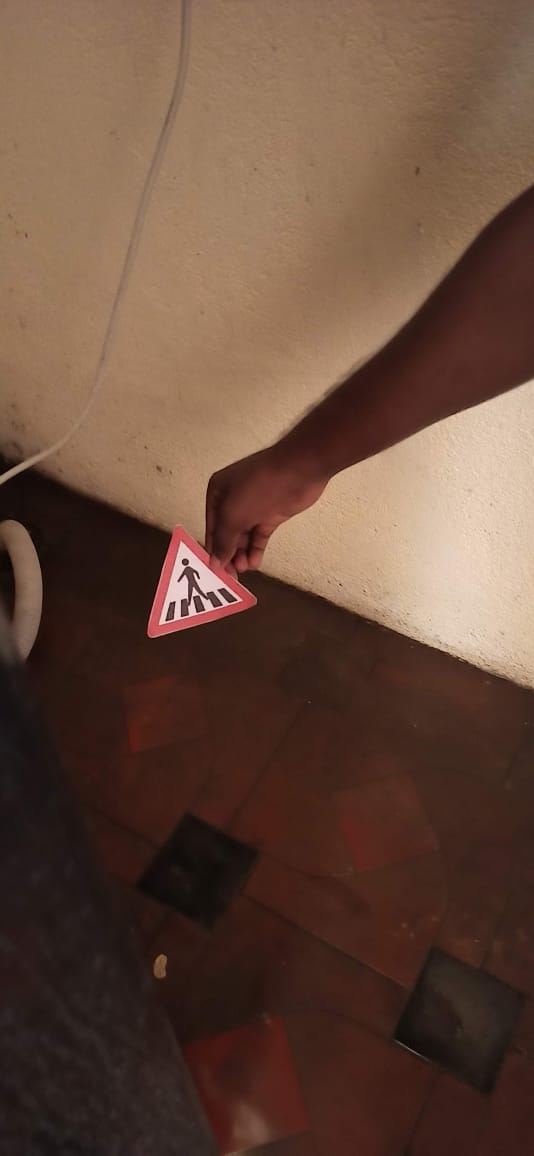PEDESTRIAN CROSSING: (127, 505, 272, 642)
